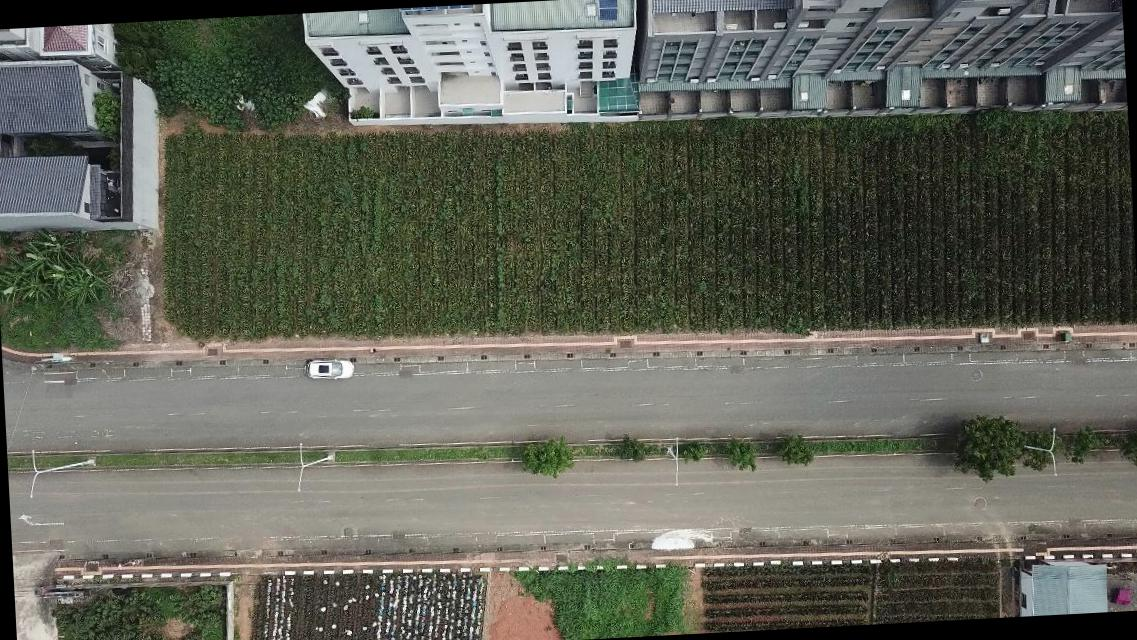vehicle: (300, 356, 356, 381)
